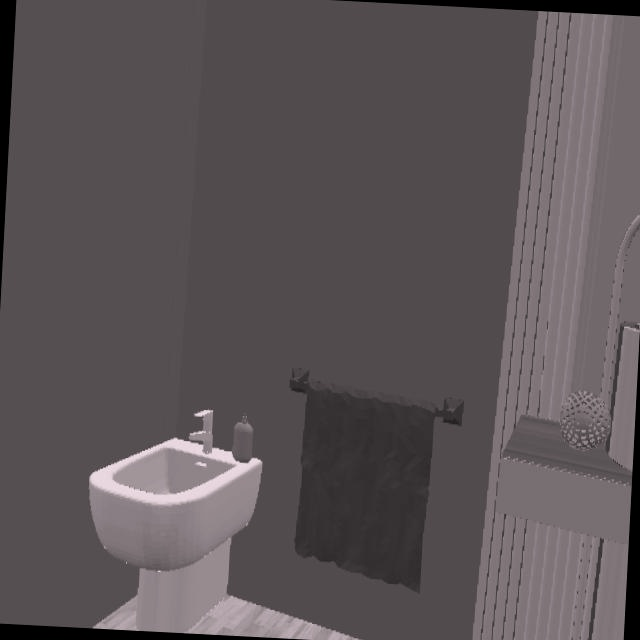washbasin: (603, 216, 640, 474)
